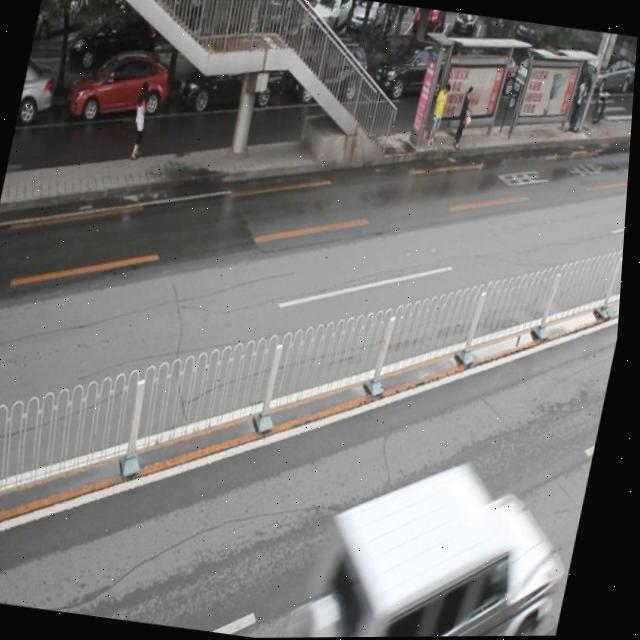car: (297, 442, 587, 638), (61, 43, 173, 132), (170, 42, 285, 116), (365, 34, 462, 110), (280, 35, 371, 113), (18, 58, 60, 127)
